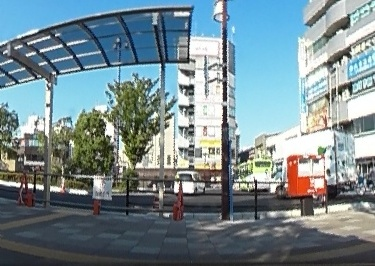person: (364, 160, 375, 188)
